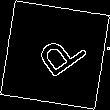P_SW: (24, 25, 86, 85)
